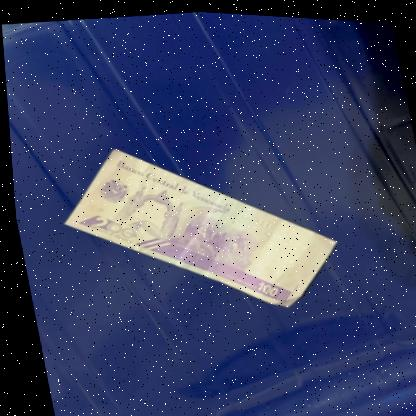one_hundred-back-vef: (45, 118, 346, 332)
